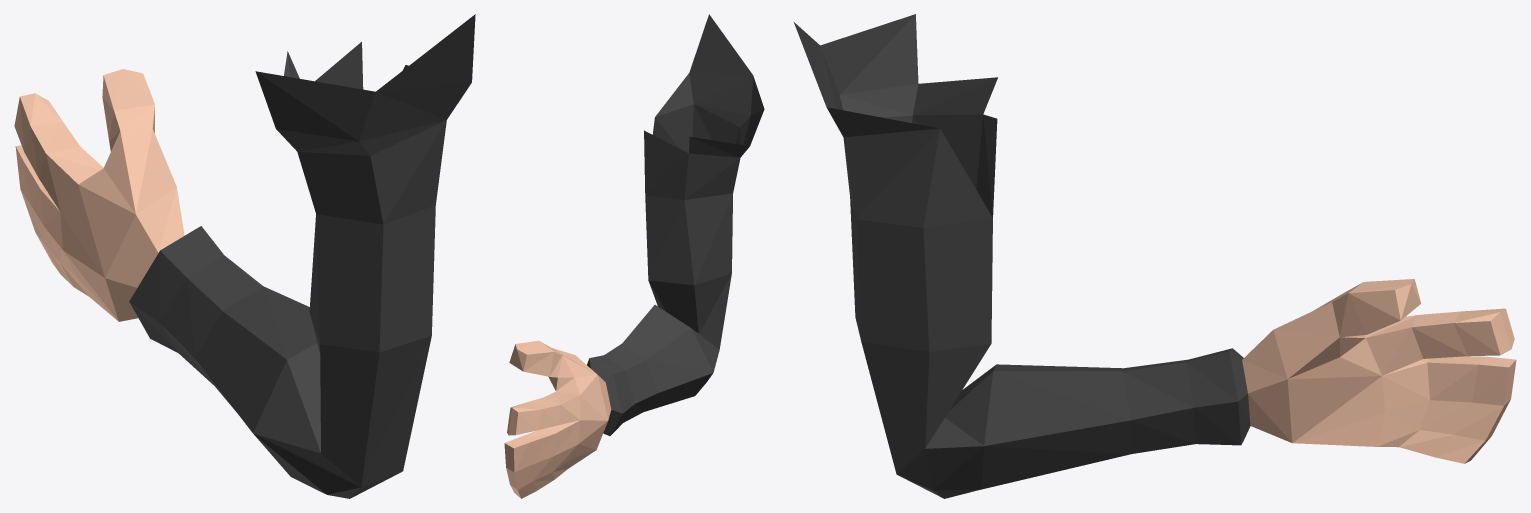
Rendered from Son_01_ArmL_96_03_A.obj.
3 renders of one model, left to right at view 1: azimuth 30°, elevation 25°; view 2: azimuth 150°, elevation 25°; view 3: azimuth 270°, elevation 25°, orthographic. The views are drawn at different scales.
Visible parts, largest first — view 1: Son_01_ArmL_96_03_A; view 2: Son_01_ArmL_96_03_A; view 3: Son_01_ArmL_96_03_A.
Part boxes in pixels (bbox=[...]): Son_01_ArmL_96_03_A: bbox=[14, 14, 475, 498]; Son_01_ArmL_96_03_A: bbox=[504, 14, 764, 498]; Son_01_ArmL_96_03_A: bbox=[794, 14, 1516, 498].
Bounding box in the file's own units: 0.1573 × 0.469 × 0.6171.
Materials: 1 (1 with a texture image).
